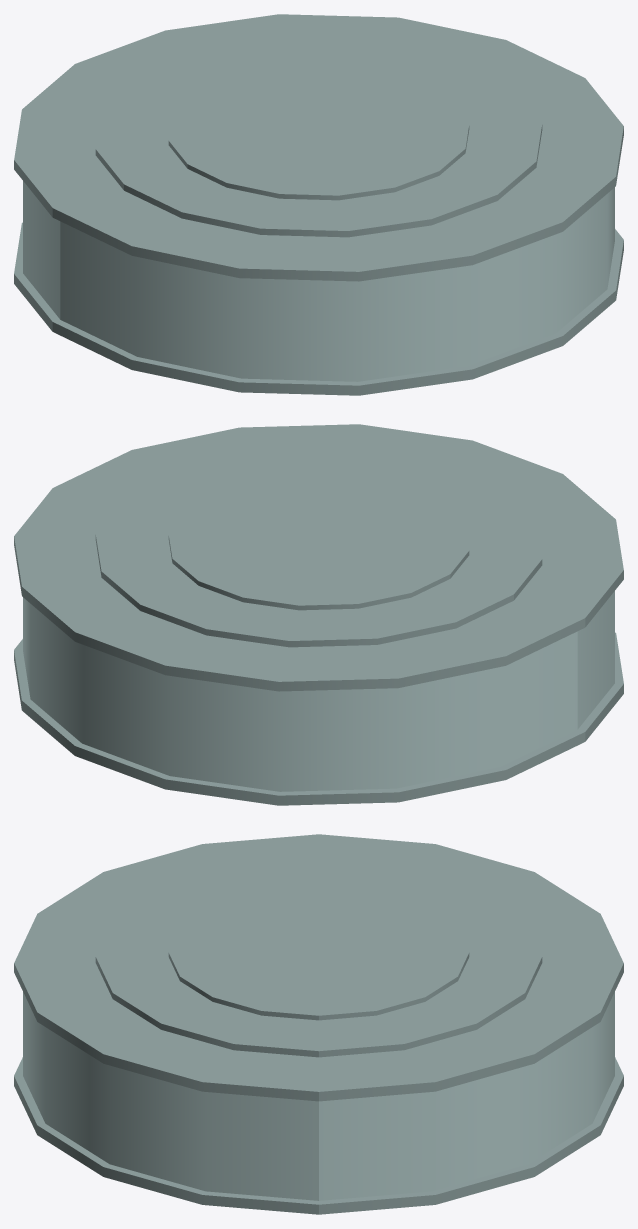
File: SM_Podium.fbx
3 views of the same model, one above another, from view 1: azimuth 30°, elevation 25°; view 2: azimuth 150°, elevation 25°; view 3: azimuth 270°, elevation 25° (orthographic).
Parts seen in each view (by area): view 1: Cylinder; view 2: Cylinder; view 3: Cylinder.
Part boxes in pixels (x1,y1,x2,y2): Cylinder: (14,14,623,395); Cylinder: (14,424,623,805); Cylinder: (14,834,623,1214).
Bounding box in the file's own units: 408 × 98.73 × 408.
